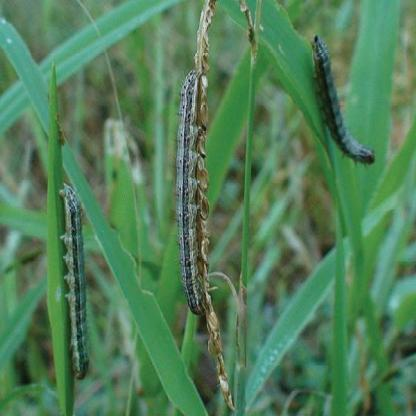armyworm: (173, 70, 211, 324), (311, 32, 378, 172), (56, 171, 96, 387)
